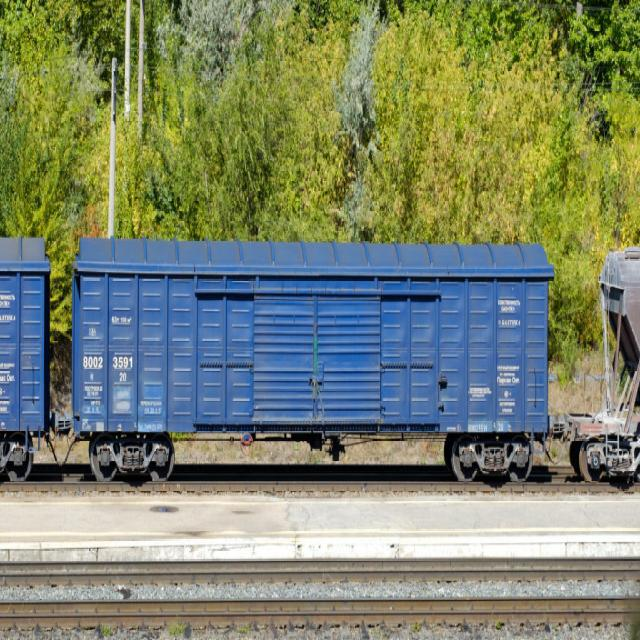boxcar: (65, 218, 557, 489), (0, 224, 57, 488)
hopper: (570, 237, 640, 483)
